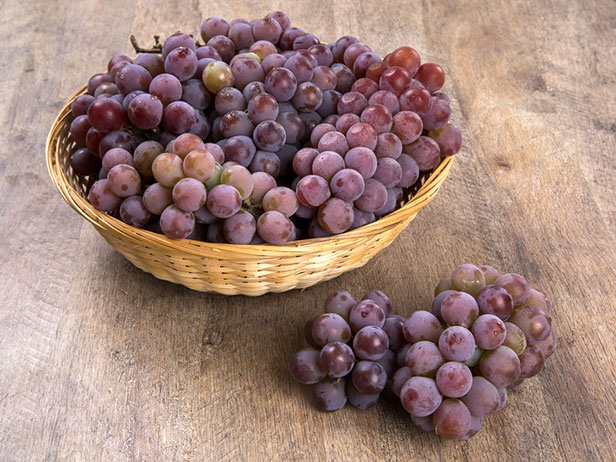Red Grapes: (106, 66, 303, 222), (401, 270, 566, 435), (300, 60, 450, 225), (306, 290, 408, 413)
